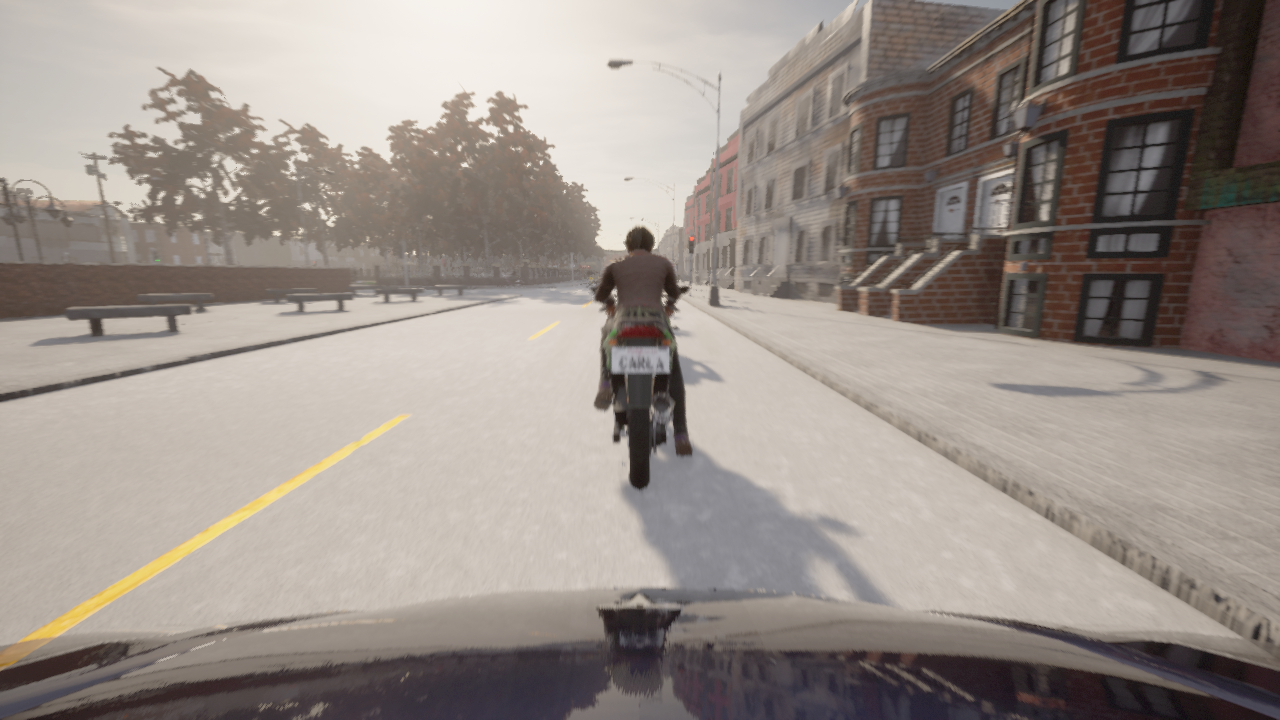cyclist: (0, 588, 1279, 719), (589, 286, 689, 489), (502, 276, 523, 288), (353, 279, 364, 285), (588, 274, 593, 286), (594, 274, 598, 285)
